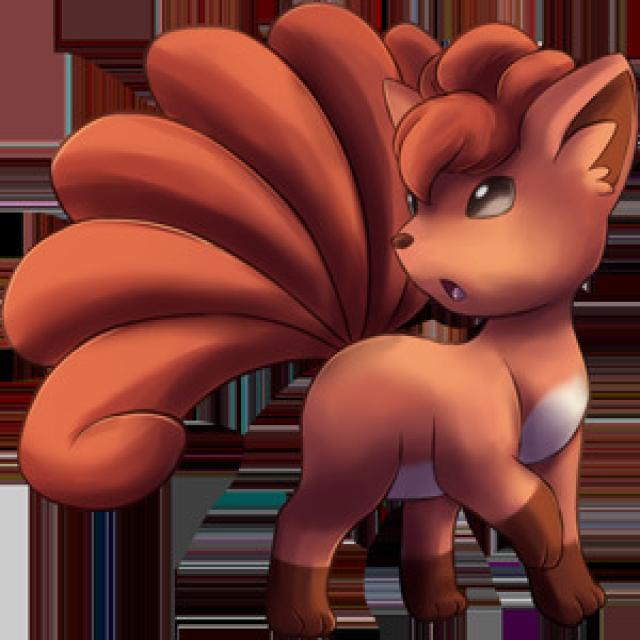Vulpix: (236, 9, 640, 640)
